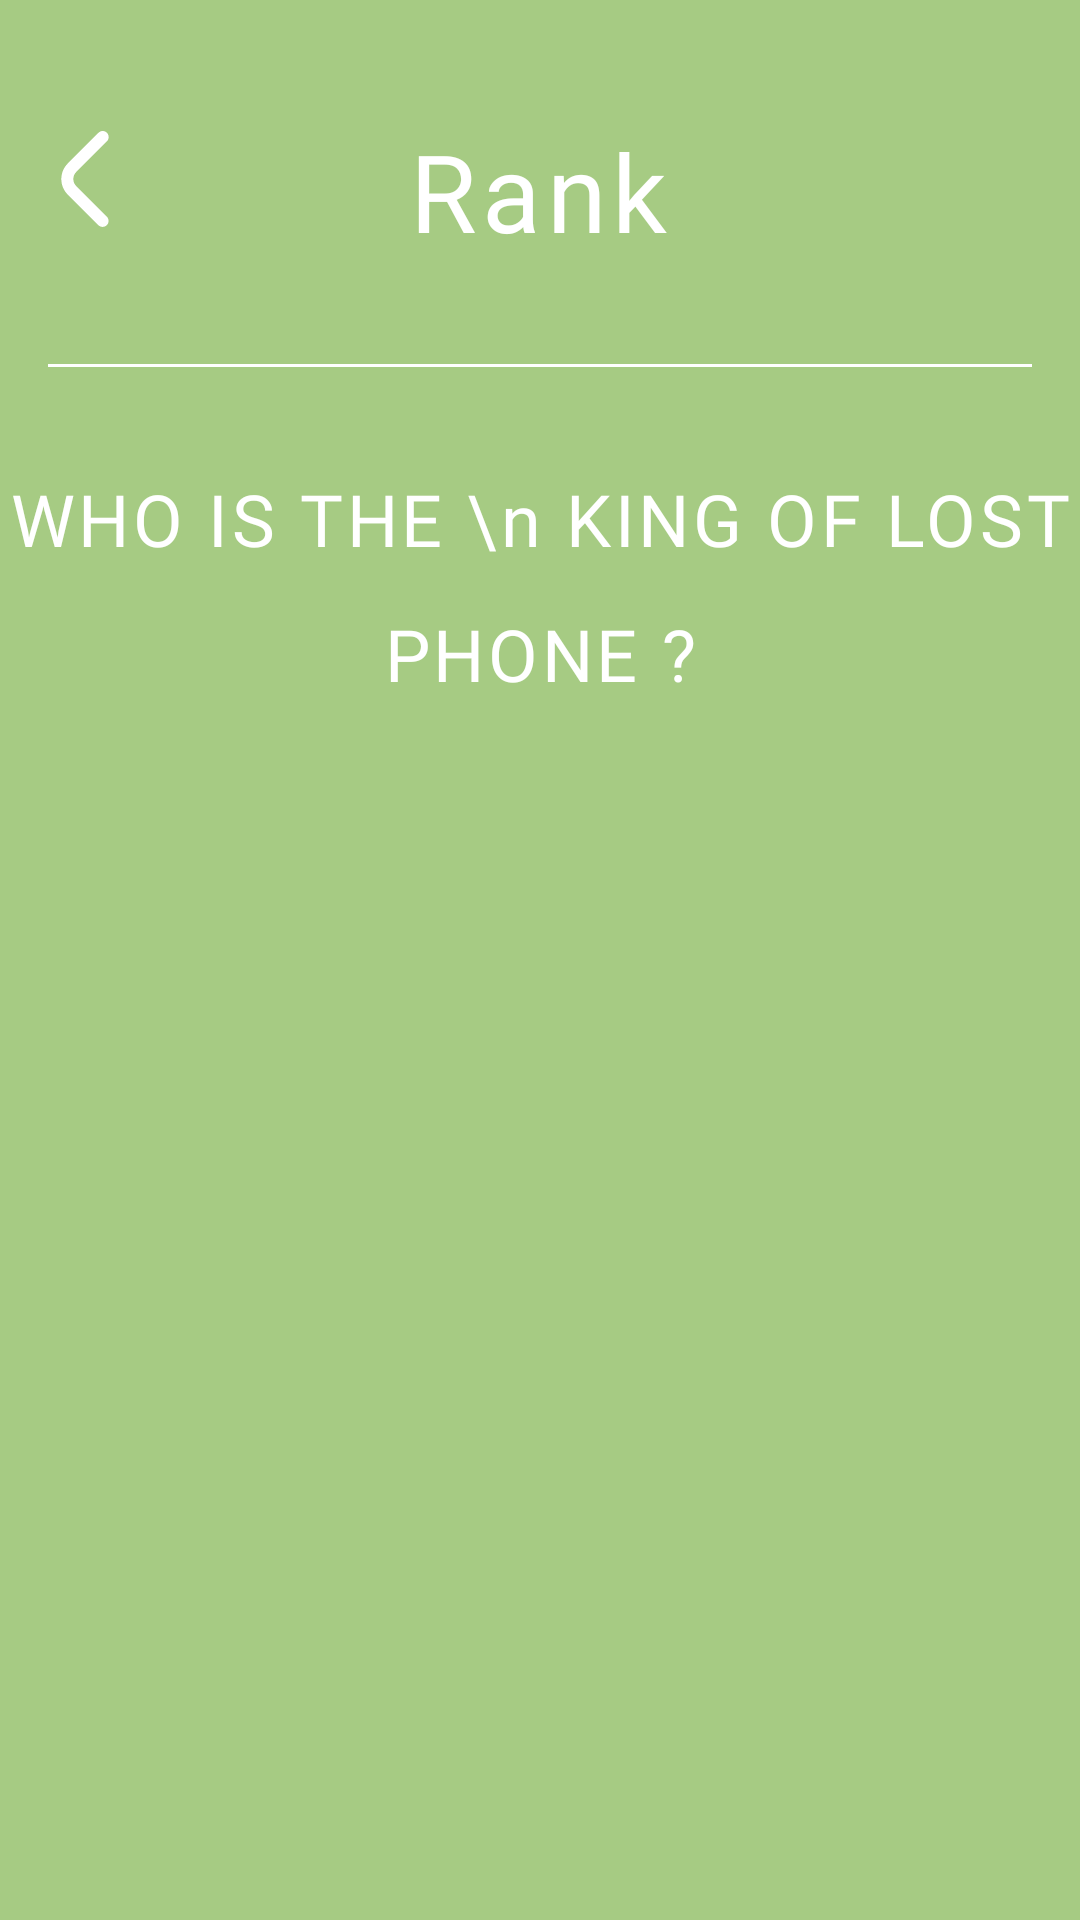

Icon bounding boxes for this 1080 × 1920 phone screenshot, format bbox=[x1, y1, x2, y2]:
back page: bbox=[61, 131, 109, 227]
